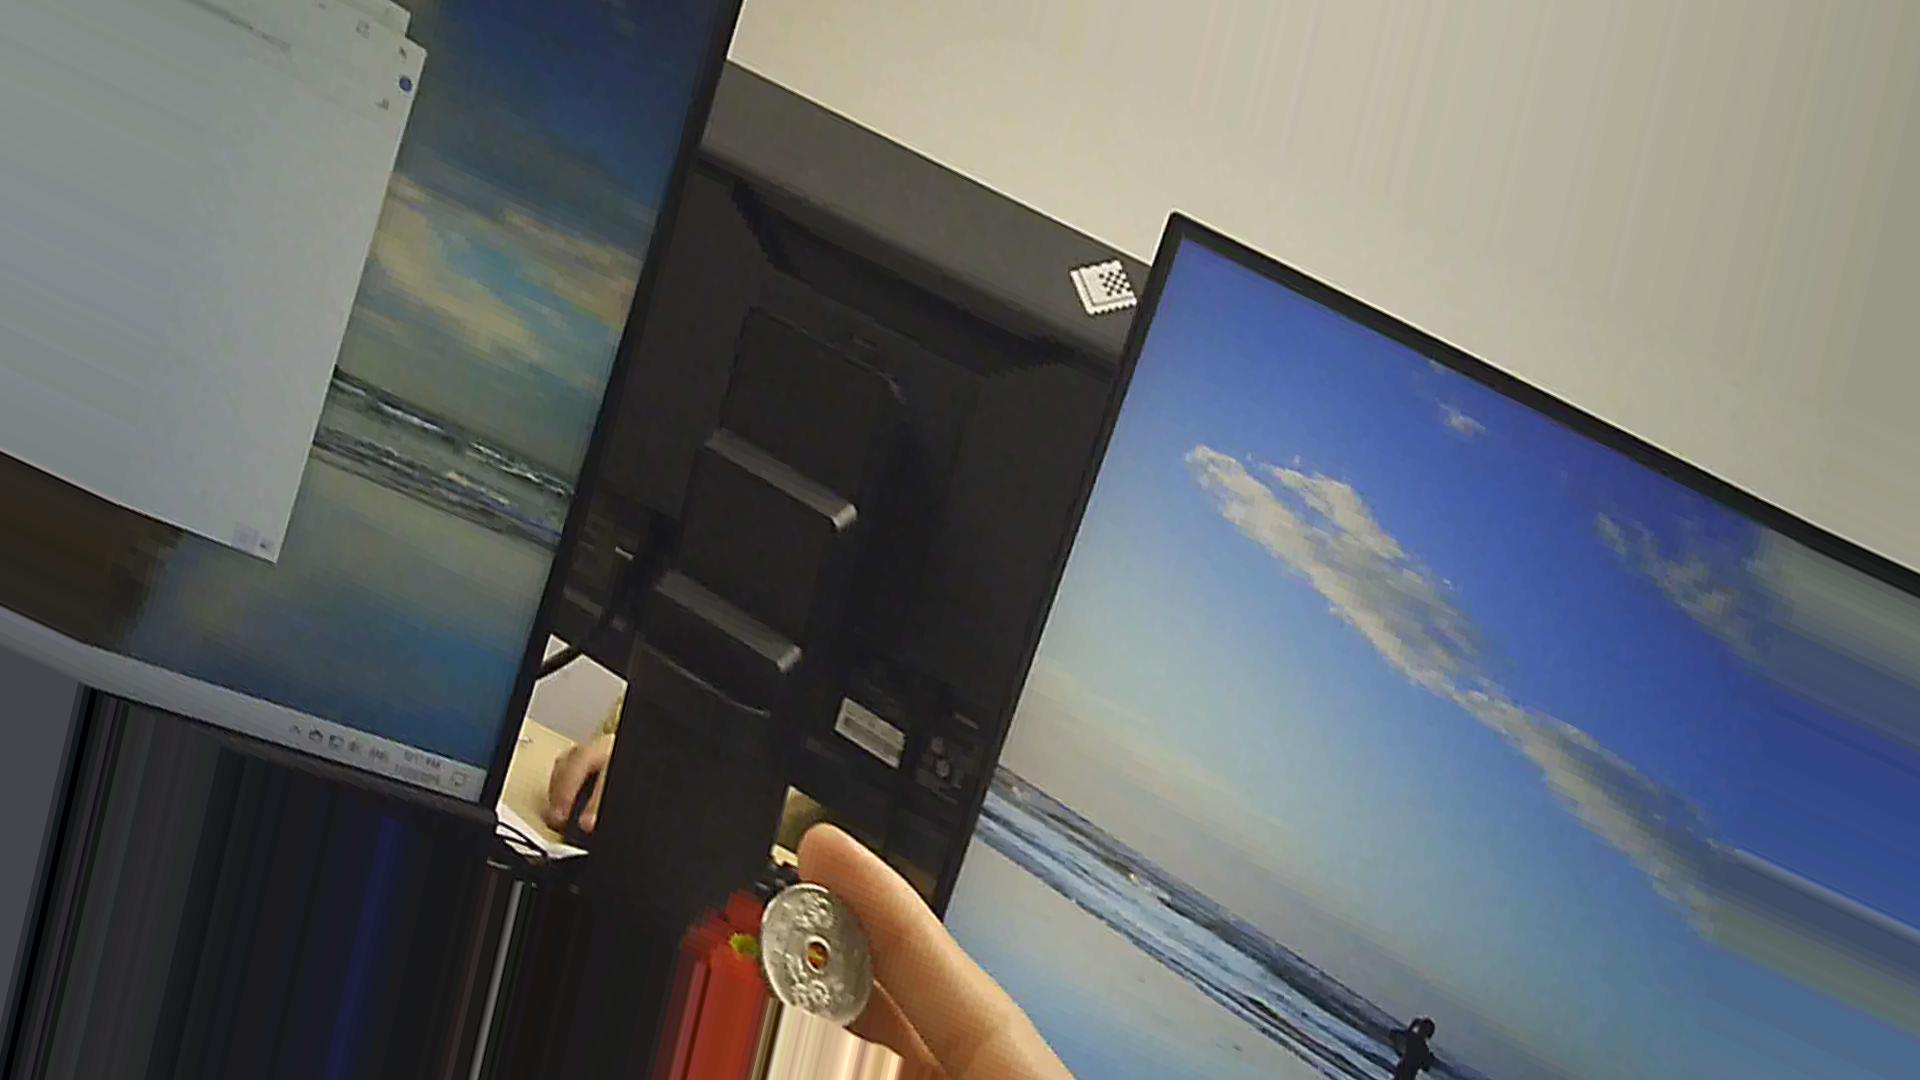50 Yen: (756, 880, 887, 1030)
